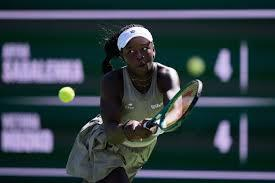ball_tennis: (186, 56, 205, 76), (59, 86, 74, 103)
